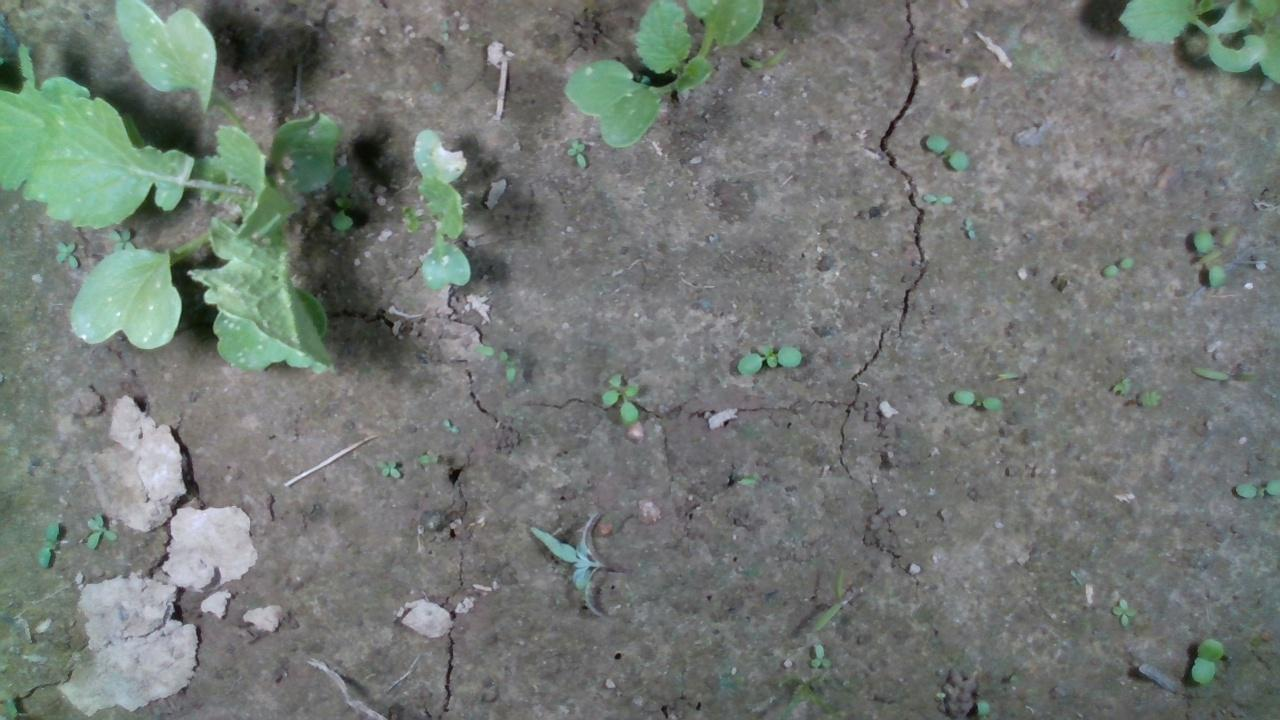weed: (734, 341, 802, 376), (598, 371, 641, 426), (810, 565, 844, 633), (923, 132, 971, 170), (1187, 636, 1224, 684), (1188, 364, 1263, 383), (85, 509, 119, 548), (35, 517, 60, 570), (951, 388, 1003, 410), (1098, 254, 1135, 277), (1109, 596, 1137, 626), (565, 137, 587, 169), (807, 641, 830, 669), (373, 457, 401, 479), (920, 191, 956, 203), (961, 215, 977, 240), (441, 417, 459, 433)
